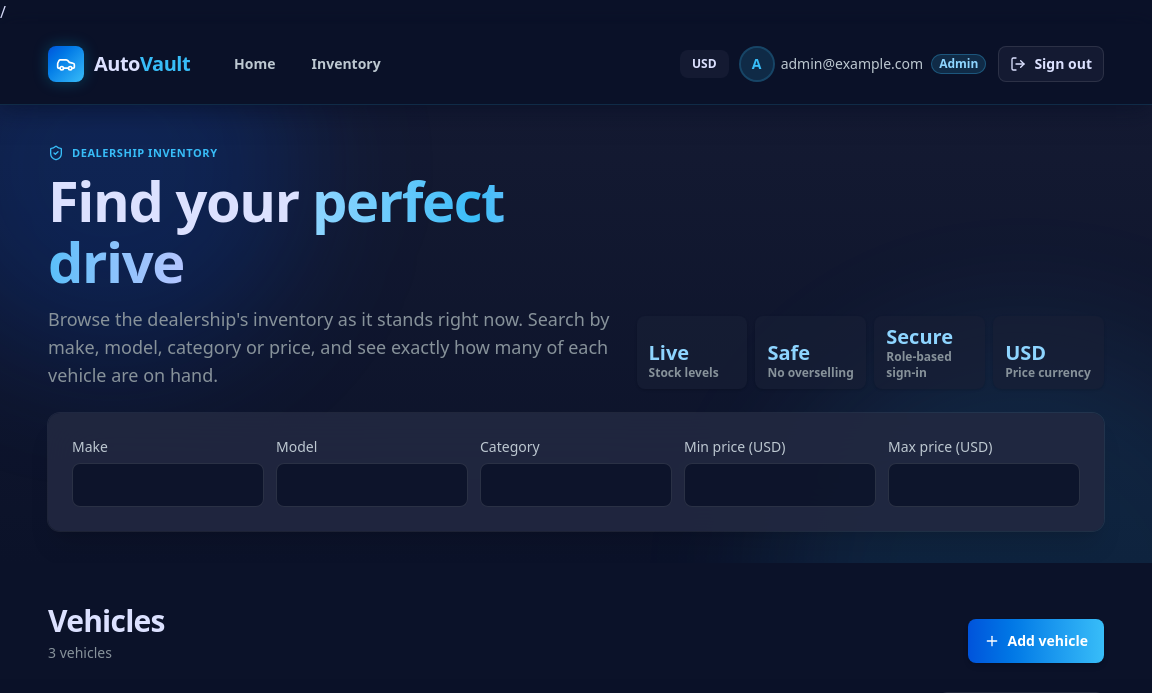
Test case: adding a vehicle › opens a dialog with a field for everything a vehicle has, the price naming the currency
The image size is (1152, 693).
Click the button "Add vehicle" at point(1036, 641), box [968, 619, 1104, 663]
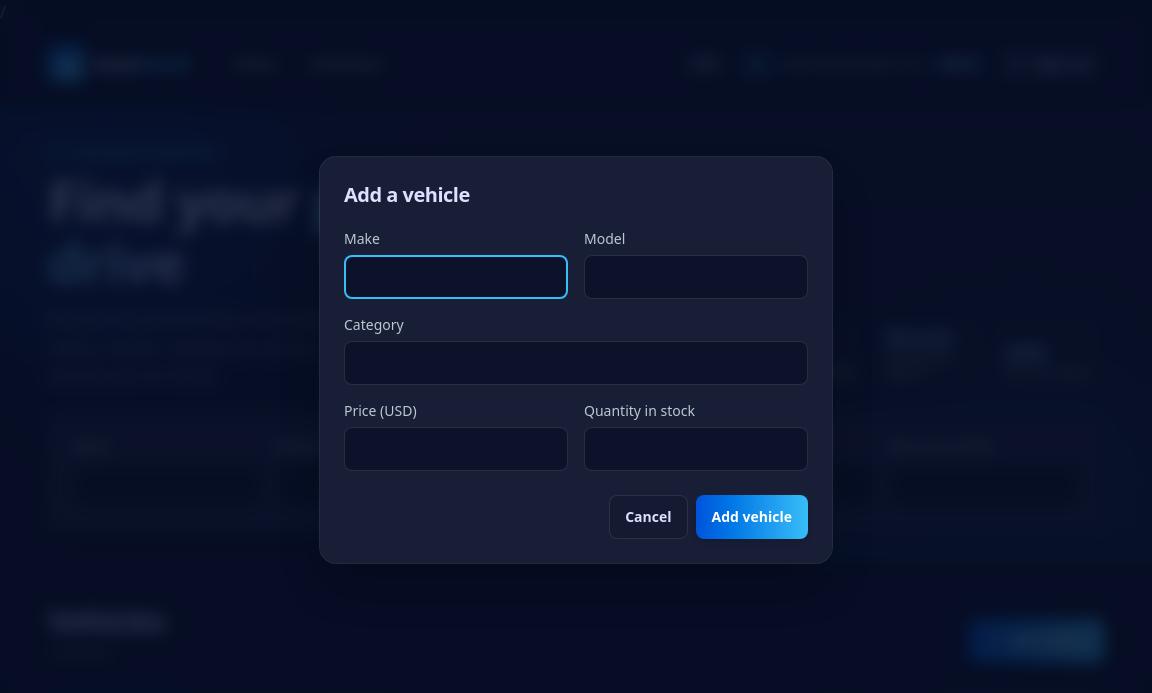
Now the dialog "Add a vehicle" is shown, box [320, 157, 832, 563]
Now the field labelled "Make" is shown, box [344, 255, 568, 299]
Now the field labelled "Model" is shown, box [584, 255, 808, 299]
